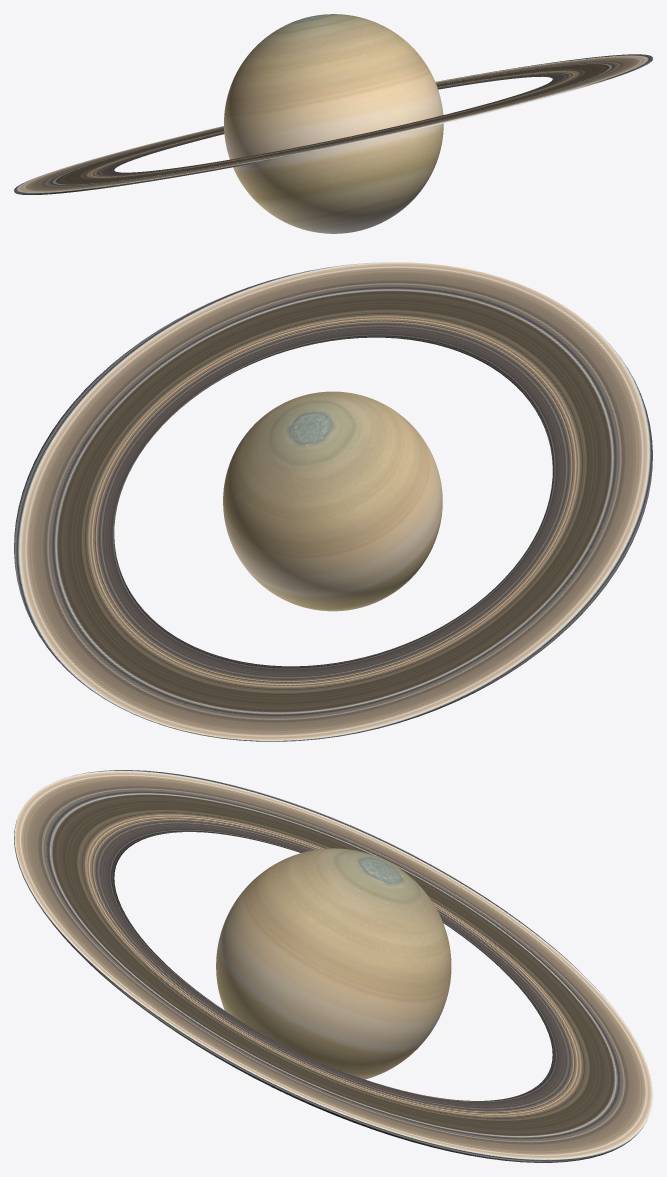
The model's file is saturn.gltf.
3 renders of one model, top to bottom at view 1: azimuth 30°, elevation 25°; view 2: azimuth 150°, elevation 25°; view 3: azimuth 270°, elevation 25°, orthographic. The views are drawn at different scales.
Parts seen in each view (by area): view 1: Saturn_2; view 2: Saturn_2; view 3: Saturn_2.
Boxes of the visible parts, <box> form: Saturn_2: <box>14,14,652,233</box>; Saturn_2: <box>14,262,652,741</box>; Saturn_2: <box>14,770,652,1162</box>.
Bounding box in the file's own units: 3.32 × 1.36 × 3.04.
Materials: 2 (2 with a texture image).
